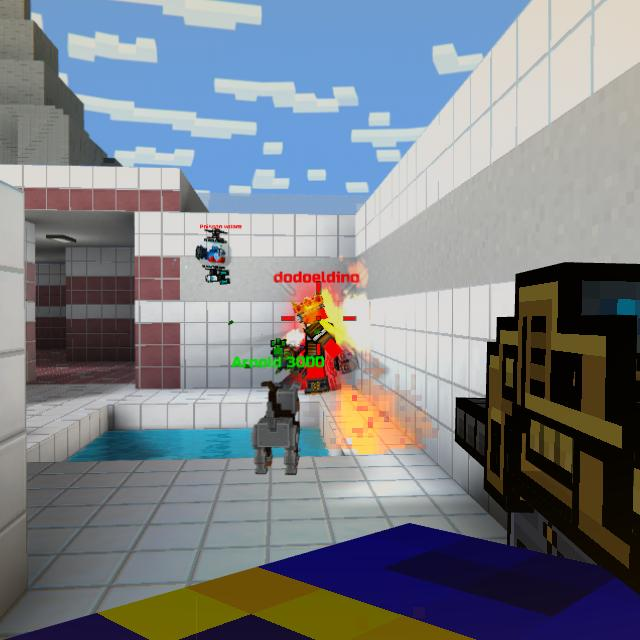Enemy: (292, 294, 342, 395)
